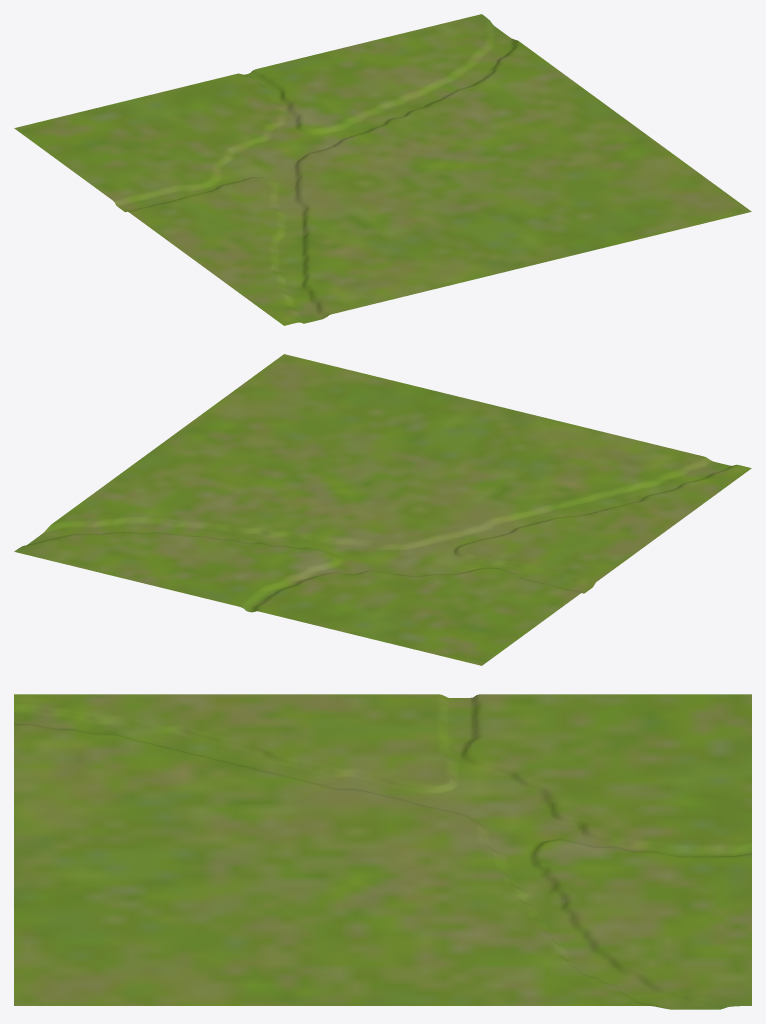
Rendered from GroundTileMesh_10_10.fbx.
The picture shows the model from 3 angles, top to bottom: view 1: azimuth 30°, elevation 25°; view 2: azimuth 150°, elevation 25°; view 3: azimuth 270°, elevation 25°; orthographic projection. The views are drawn at different scales.
Visible parts, largest first — view 1: GroundTile_10_10; view 2: GroundTile_10_10; view 3: GroundTile_10_10.
Part boxes in pixels (x1,y1,x2,y2): GroundTile_10_10: (14, 14, 751, 325); GroundTile_10_10: (14, 354, 751, 665); GroundTile_10_10: (14, 694, 751, 1009).
Size of the model in its own units: 32500 by 183 by 32500.
1 material, 1 textured.
